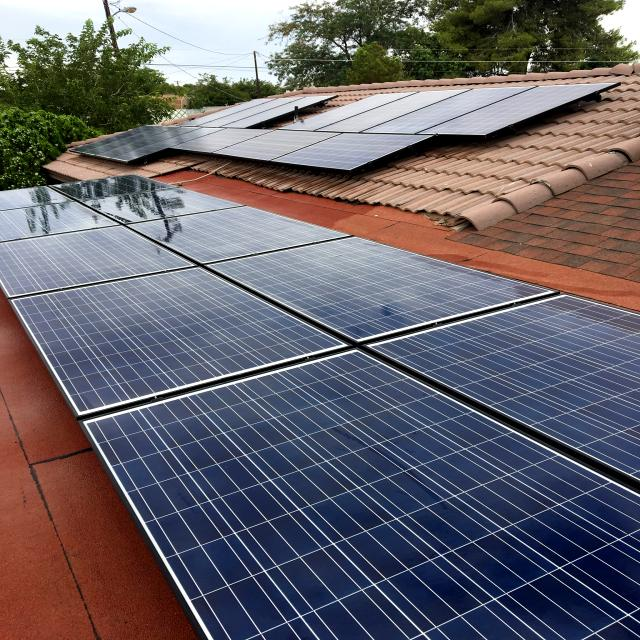crack: (52, 331, 639, 640), (177, 206, 618, 407), (348, 278, 640, 526), (0, 272, 357, 427)
